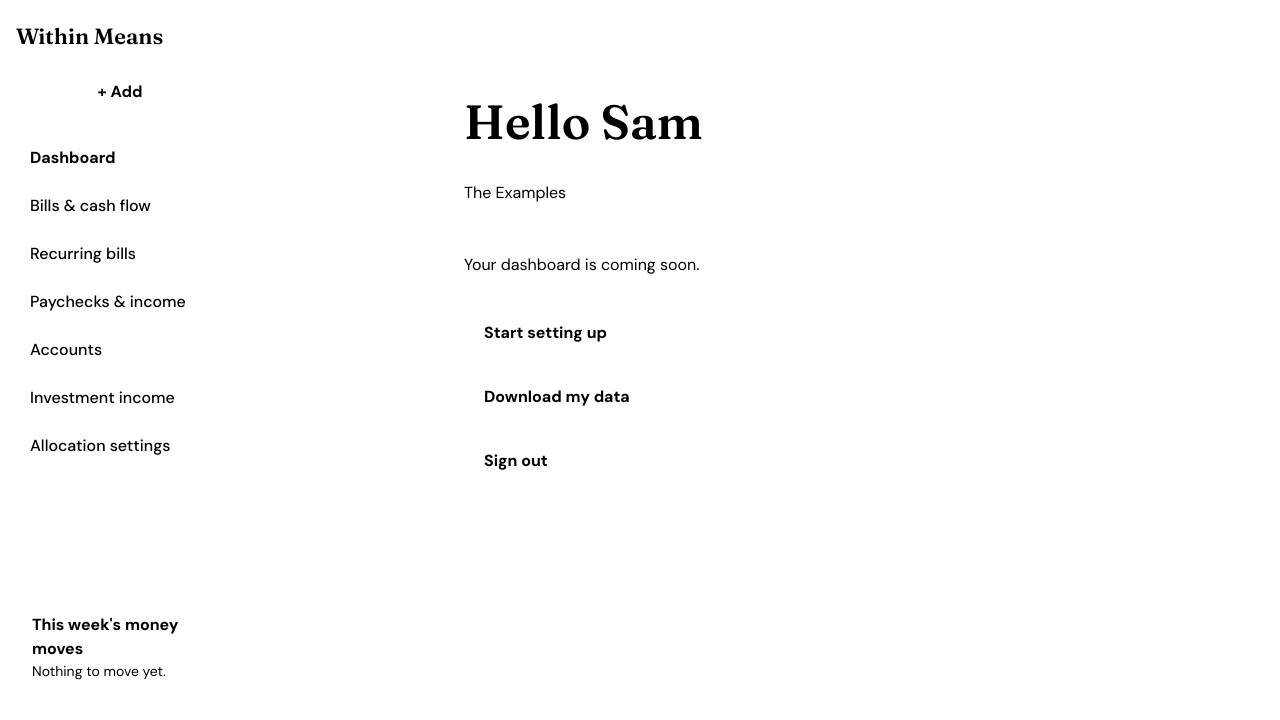
it: P2-08 getting to the Recurring bills page › opens from the sidebar, and Dashboard goes back
Expected: the heading "Hello Sam" is shown, top-left (464, 96), bottom-right (703, 149)
Click the link "Recurring bills".
click(83, 254)  # box top-left (30, 243), bottom-right (136, 264)
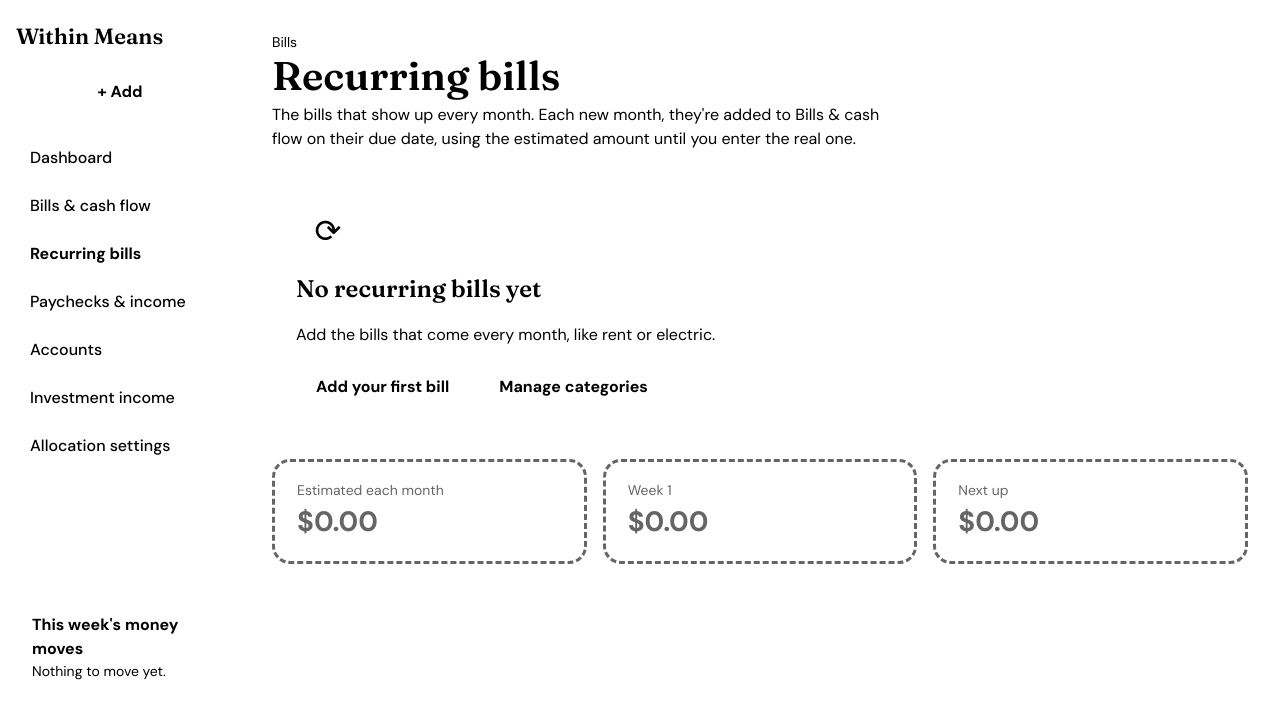
Expected: the heading "Recurring bills" is shown, top-left (272, 51), bottom-right (560, 100)
Expected: the button "Add your first bill" is shown, top-left (296, 363), bottom-right (469, 411)
Click the link "Dashboard".
click(71, 158)  # box top-left (30, 147), bottom-right (112, 168)
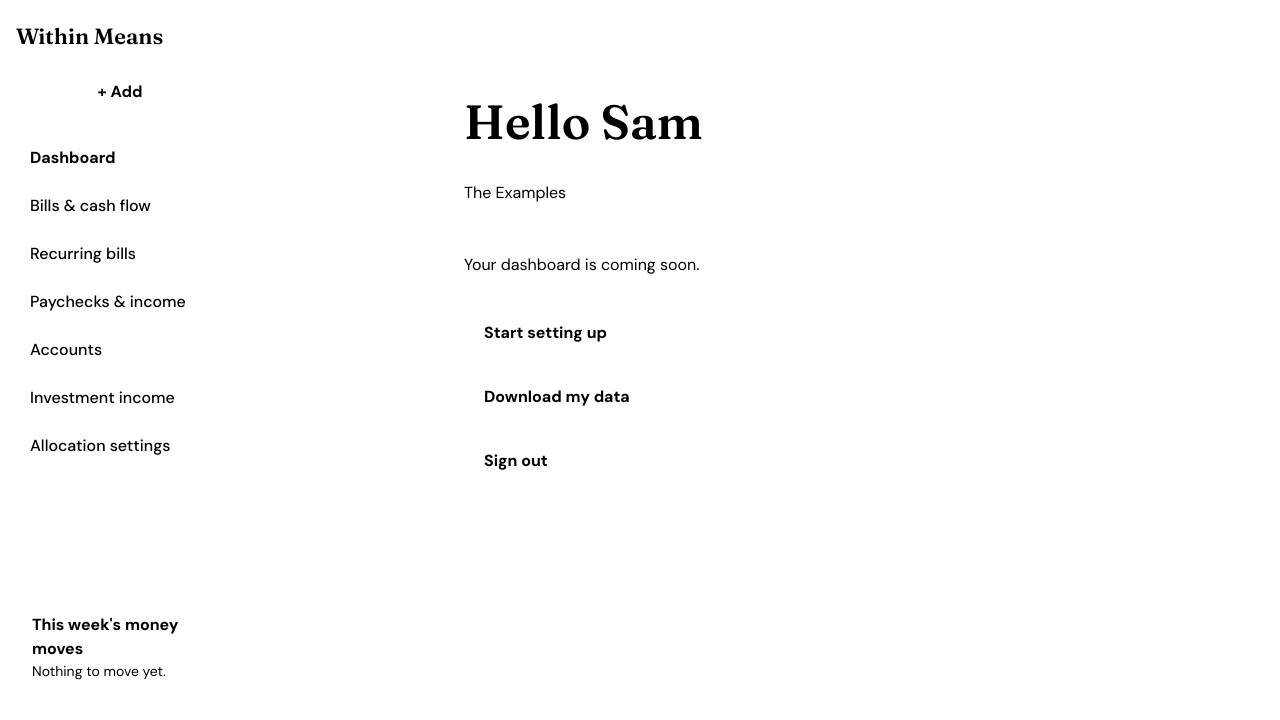
Expected: the heading "Hello Sam" is shown, top-left (464, 96), bottom-right (703, 149)
